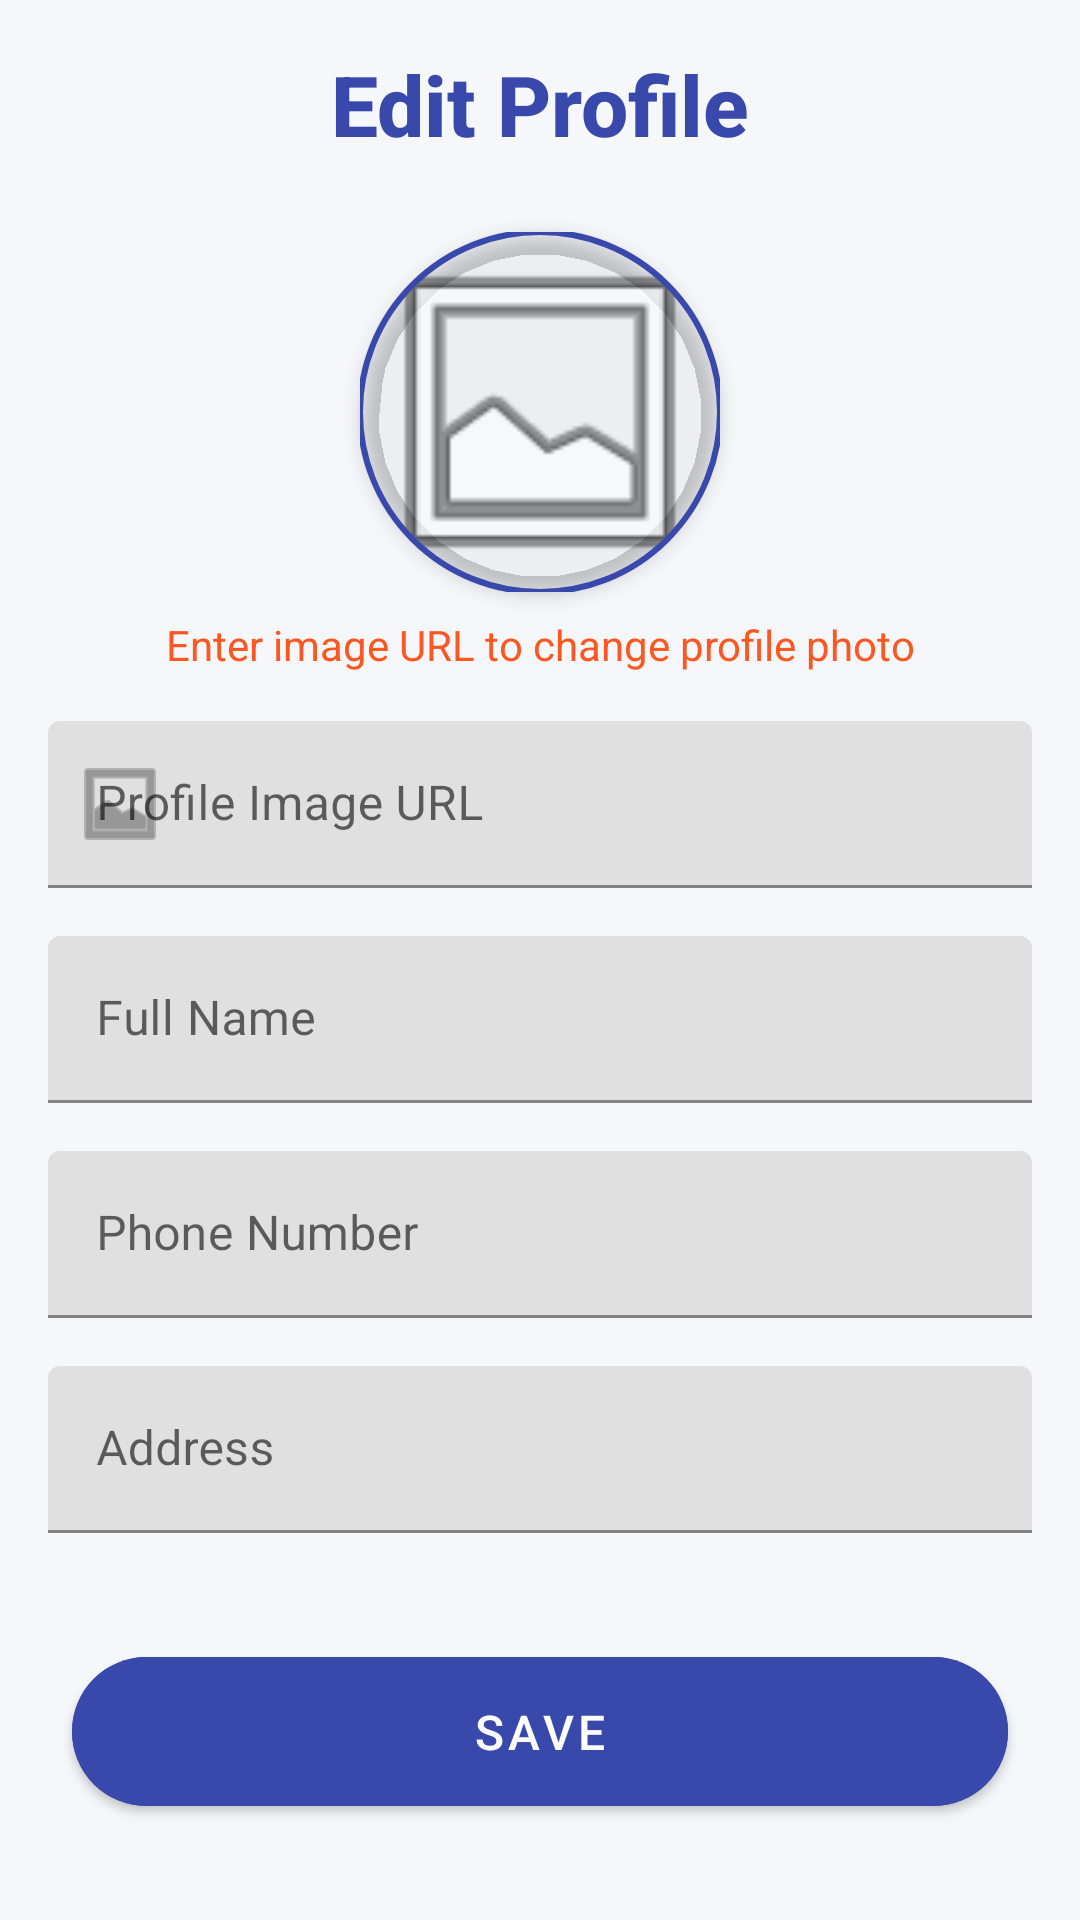

Point at icon controls on the screen. Image size 1080px×1920px, points as [x,y].
gallery: [540,412]
